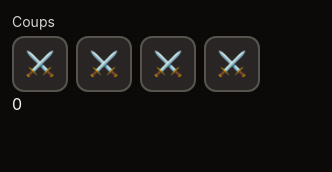
Scenario: saisie tactile des dés › un bouton par dé ; toucher le dé n°i compte i réussites
Click the button named "Coups, dé 3" at (168,64), box x1=140 y1=36 x2=196 y2=92
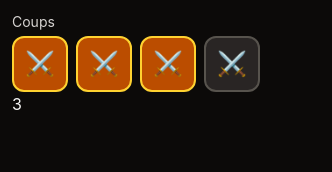
Expected: the text with test id "val" reads "3", x1=12 y1=94 x2=22 y2=114
